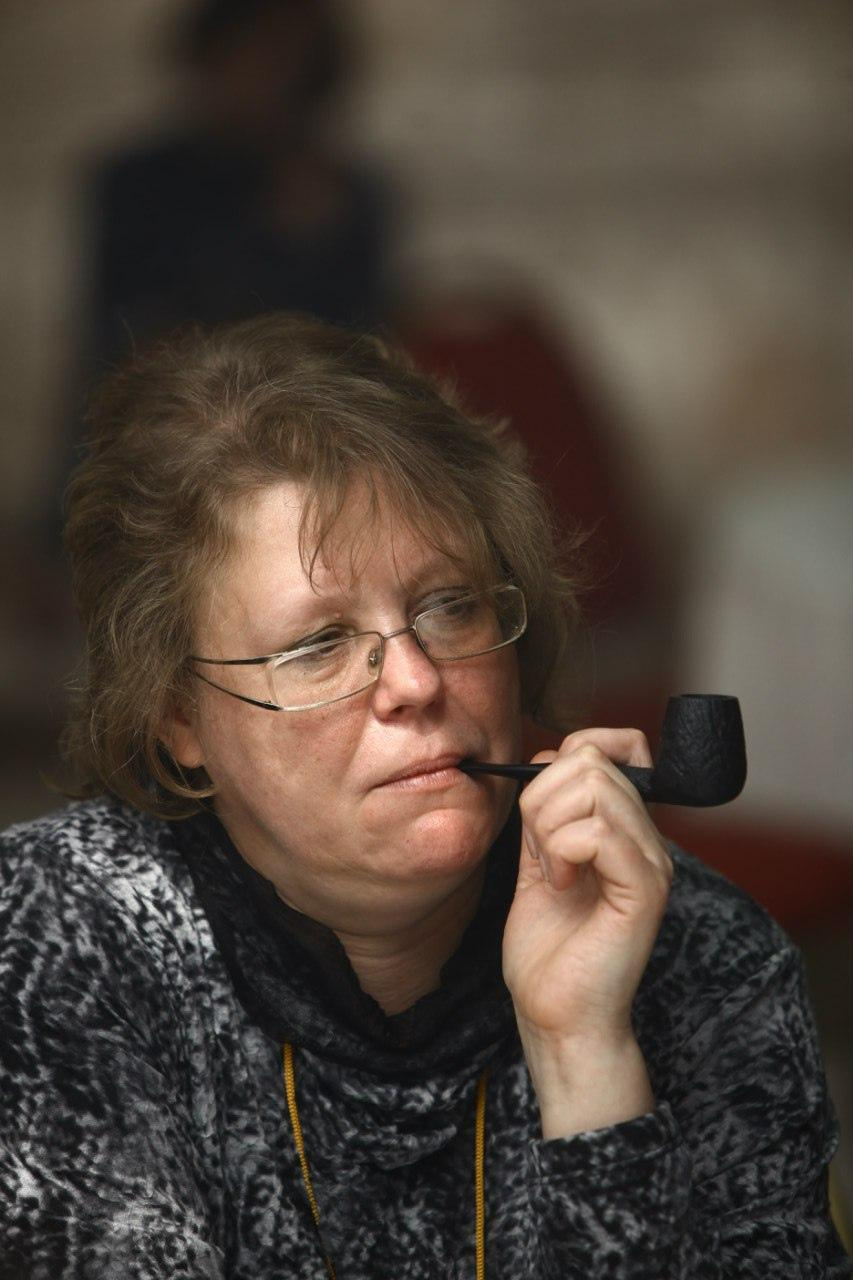trubka: (456, 692, 748, 806)
